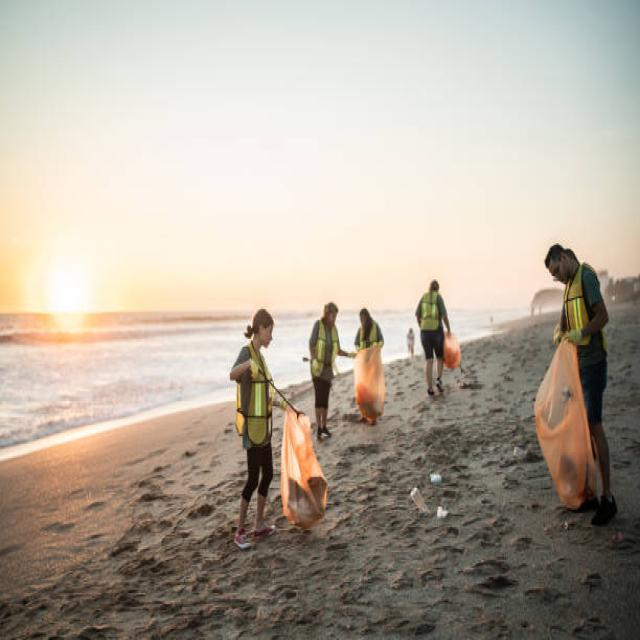trash: (538, 356, 597, 510), (282, 402, 328, 534), (354, 342, 391, 428), (441, 325, 472, 392)
